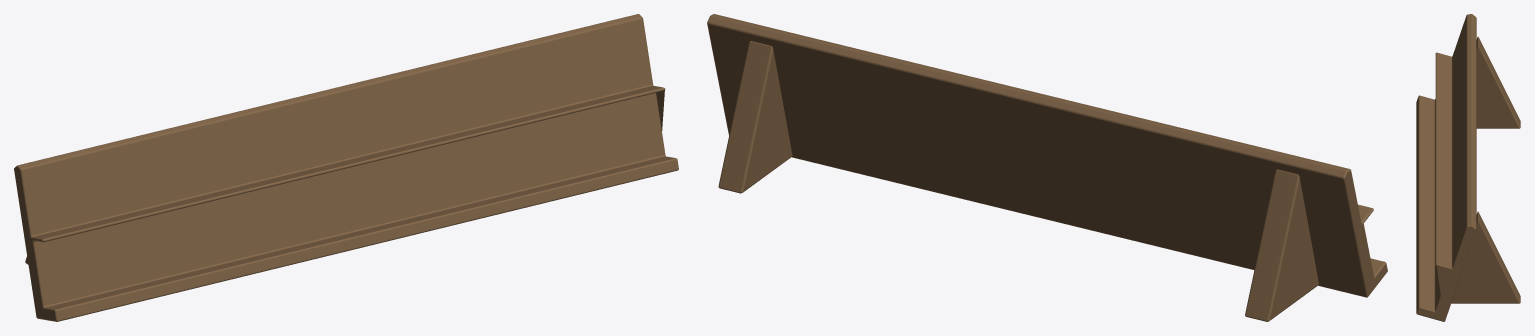
The model's file is okey_rack_refined.glb.
The picture shows the model from 3 angles, left to right: view 1: azimuth 30°, elevation 25°; view 2: azimuth 150°, elevation 25°; view 3: azimuth 270°, elevation 25°; orthographic projection. The views are drawn at different scales.
Parts seen in each view (by area): view 1: Istaka solid routed body.001; view 2: Istaka solid routed body.001, Istaka joined support.002, Istaka joined support.003; view 3: Istaka solid routed body.001, Istaka joined support.003, Istaka joined support.002.
Part boxes in pixels (x1,y1,x2,y2): Istaka solid routed body.001: [14, 14, 678, 321]; Istaka solid routed body.001: [707, 14, 1387, 297]; Istaka joined support.002: [1245, 169, 1318, 321]; Istaka joined support.003: [718, 41, 792, 193]; Istaka solid routed body.001: [1416, 14, 1476, 321]; Istaka joined support.003: [1451, 211, 1520, 303]; Istaka joined support.002: [1476, 36, 1520, 128].
Size of the model in its own units: 0.618 by 0.1315 by 0.1281.
